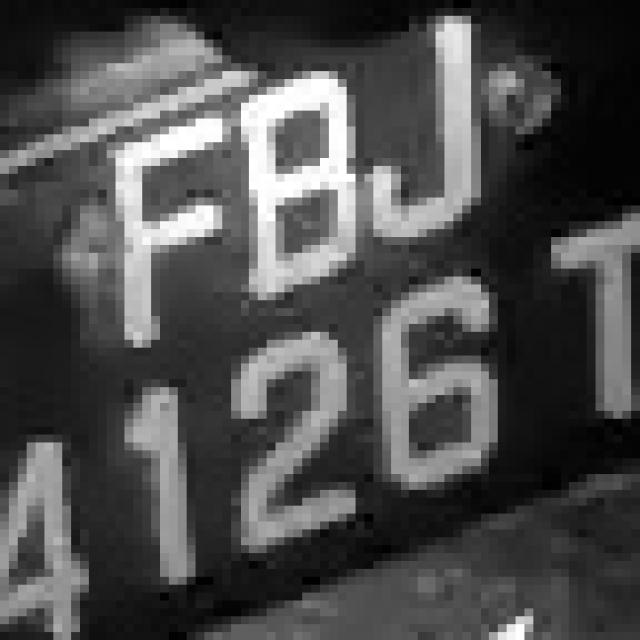1: (106, 364, 196, 608)
2: (186, 340, 364, 545)
4: (0, 419, 107, 624)
6: (356, 261, 524, 521)
B: (214, 64, 374, 292)
F: (98, 102, 240, 348)
J: (364, 16, 506, 253)
T: (524, 214, 622, 466)
